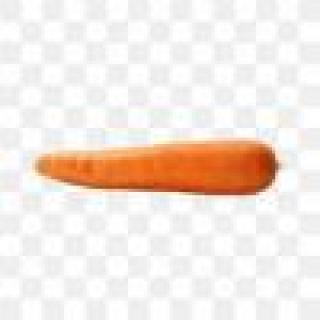Wortel: (17, 123, 283, 212)
